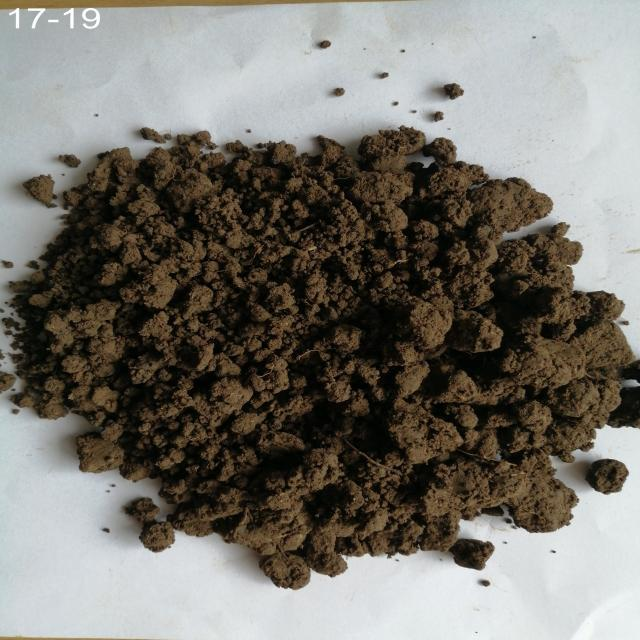soil: (101, 162, 522, 504)
